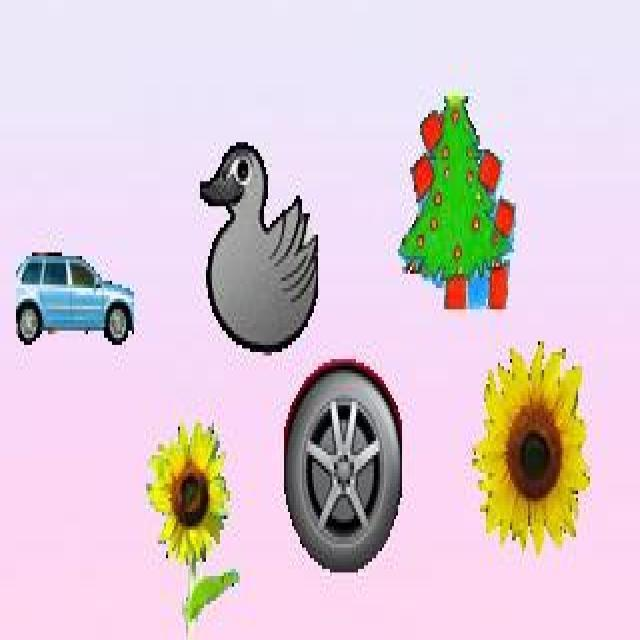Other Objects: (200, 141, 318, 353)
